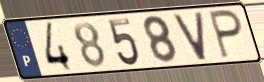4: (42, 20, 75, 74)
5: (106, 17, 141, 67)
8: (142, 14, 179, 65), (72, 19, 107, 70)
P: (207, 8, 245, 61)
V: (171, 10, 209, 63)
